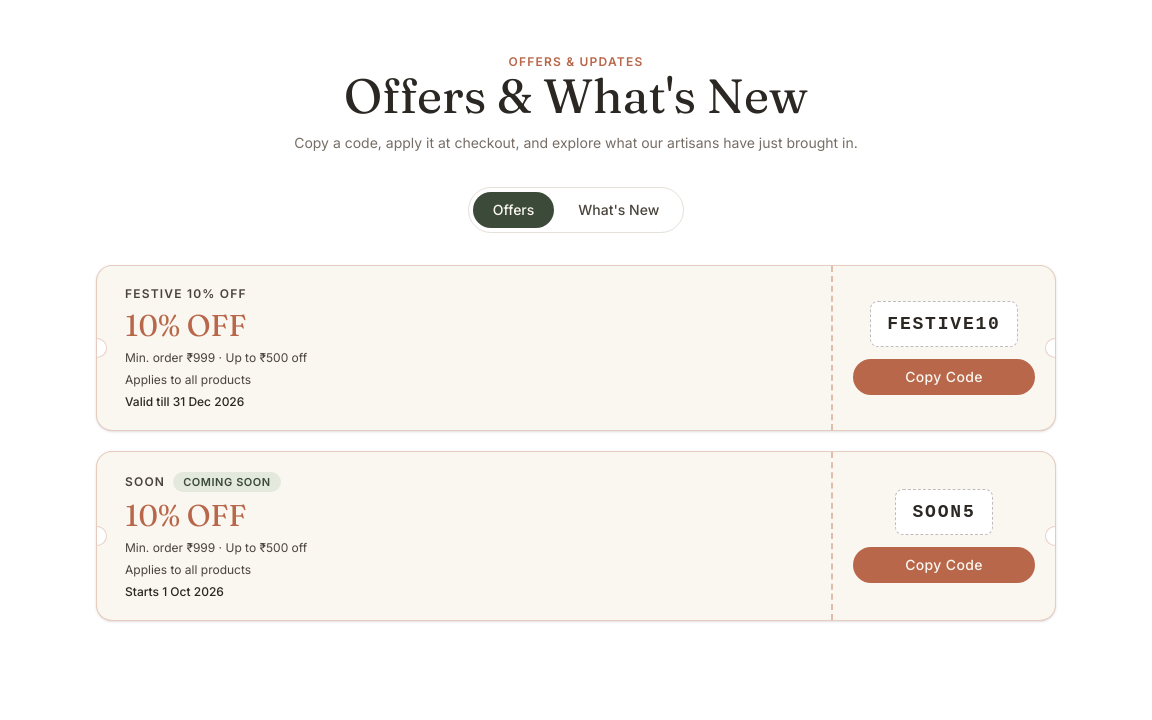
Test: OffersPage › opens a details modal with min order, max discount, validity and terms
Click the element with test id "offer-card": (576,348) [96,265,1056,431]
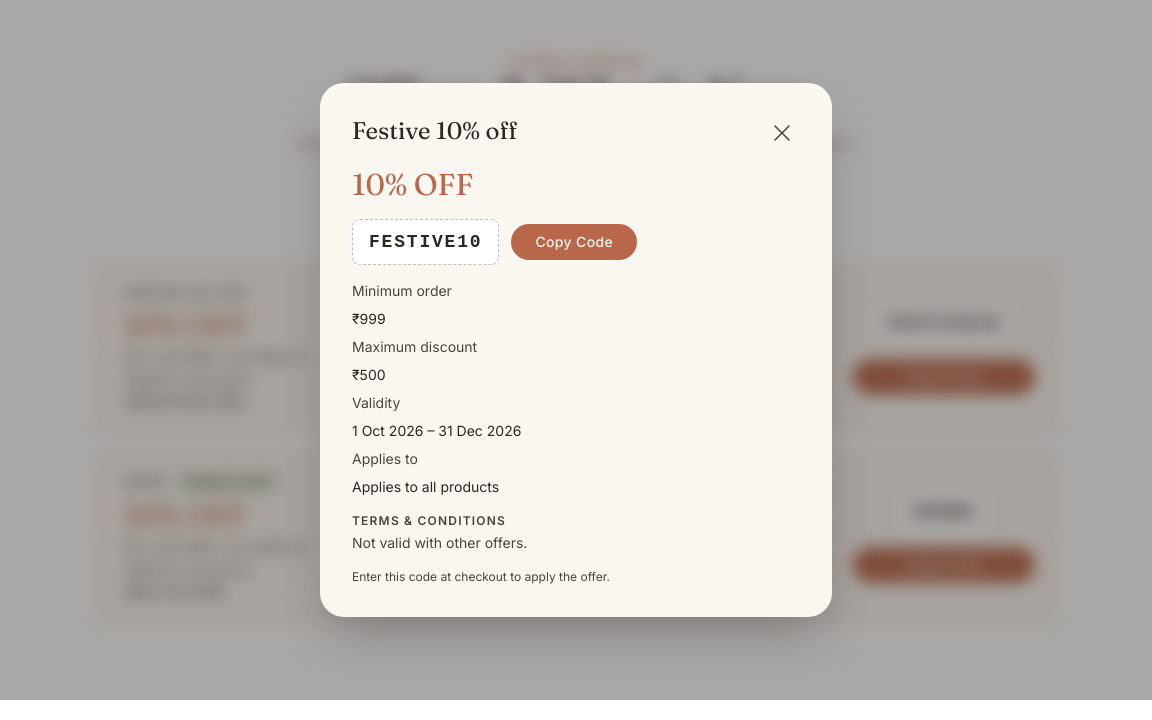
Result: the dialog shows "Minimum order" at [352,282,452,299]
Result: the dialog shows "₹999" at [352,310,386,327]
Result: the dialog shows "₹500" at [352,366,386,383]
